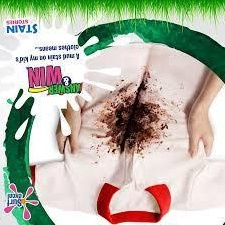earth: (108, 100, 157, 149)
